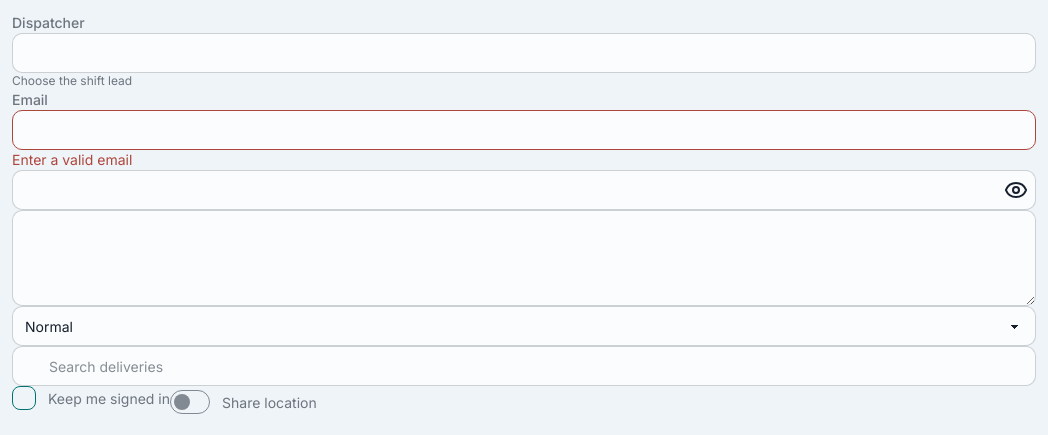
it: form controls › exposes labels, validation, and suggestions across its field controls
This screenshot has width=1048, height=435.
Expected: the message reads "Enter a valid email", [12,151,132,168]
Expected: the search field labelled "Search deliveries" is shown, [12,346,1036,386]
Click the button named "Show password". click: {"x": 1016, "y": 190}
box: [1000,174,1032,206]
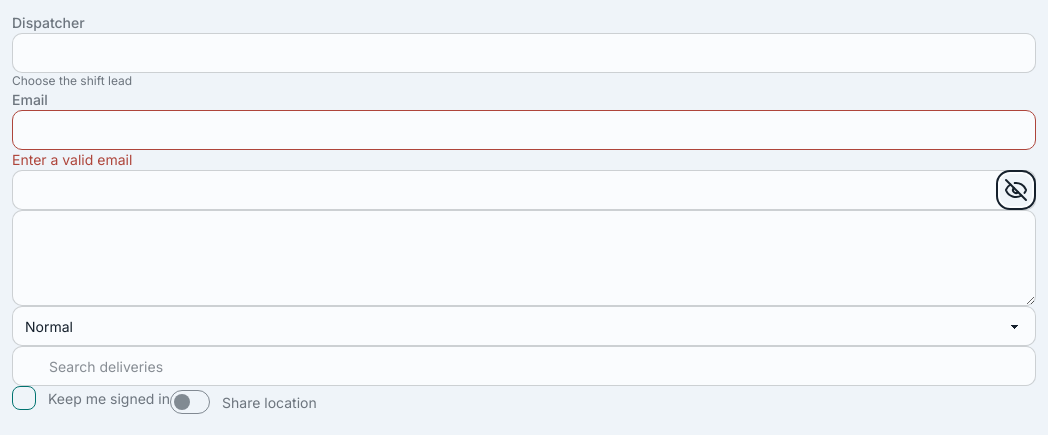
Select "Urgent" in the dropdown named "Priority". click: {"x": 524, "y": 326}
box: [12,306,1036,346]
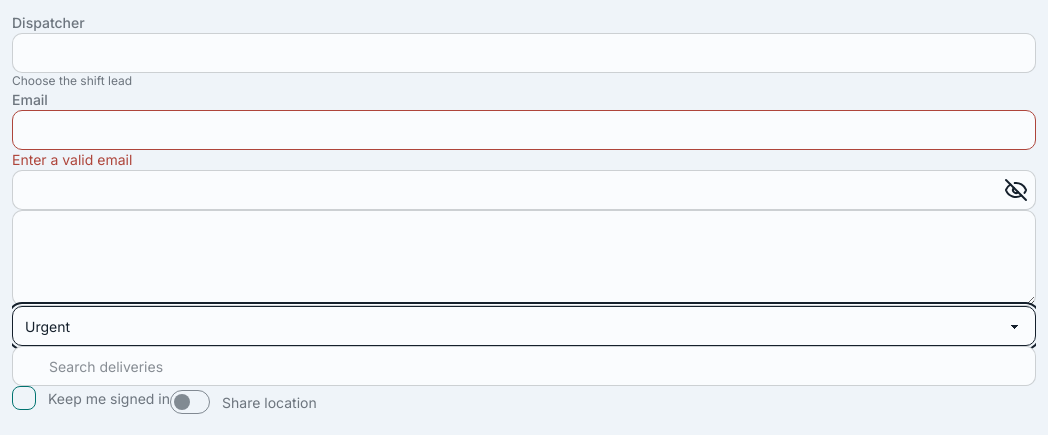
Click the checkbox labelled "Keep me signed in". click: {"x": 24, "y": 398}
box: [12,386,36,410]
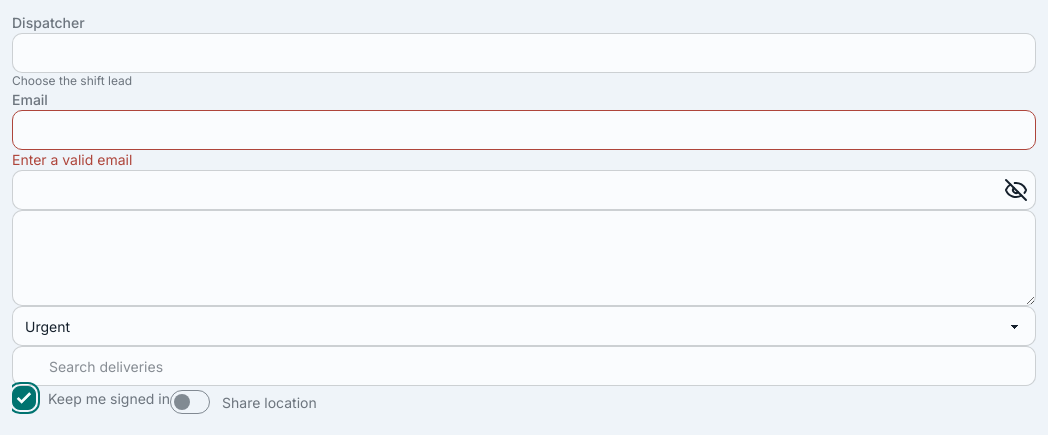
Now the checkbox labelled "Keep me signed in" is checked, box [12,386,36,410]
Click the switch labelled "Share location". click: {"x": 190, "y": 402}
box: [170,390,210,414]
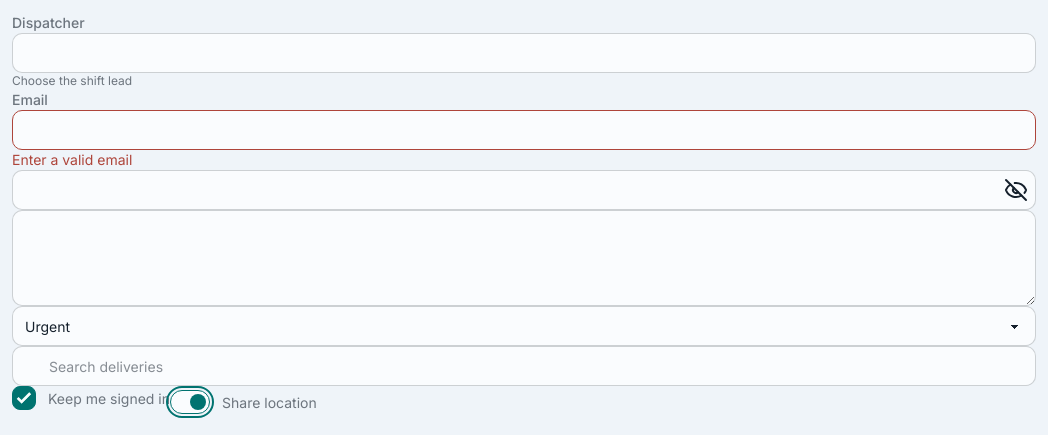
Now the switch labelled "Share location" is checked, box [170,390,210,414]
